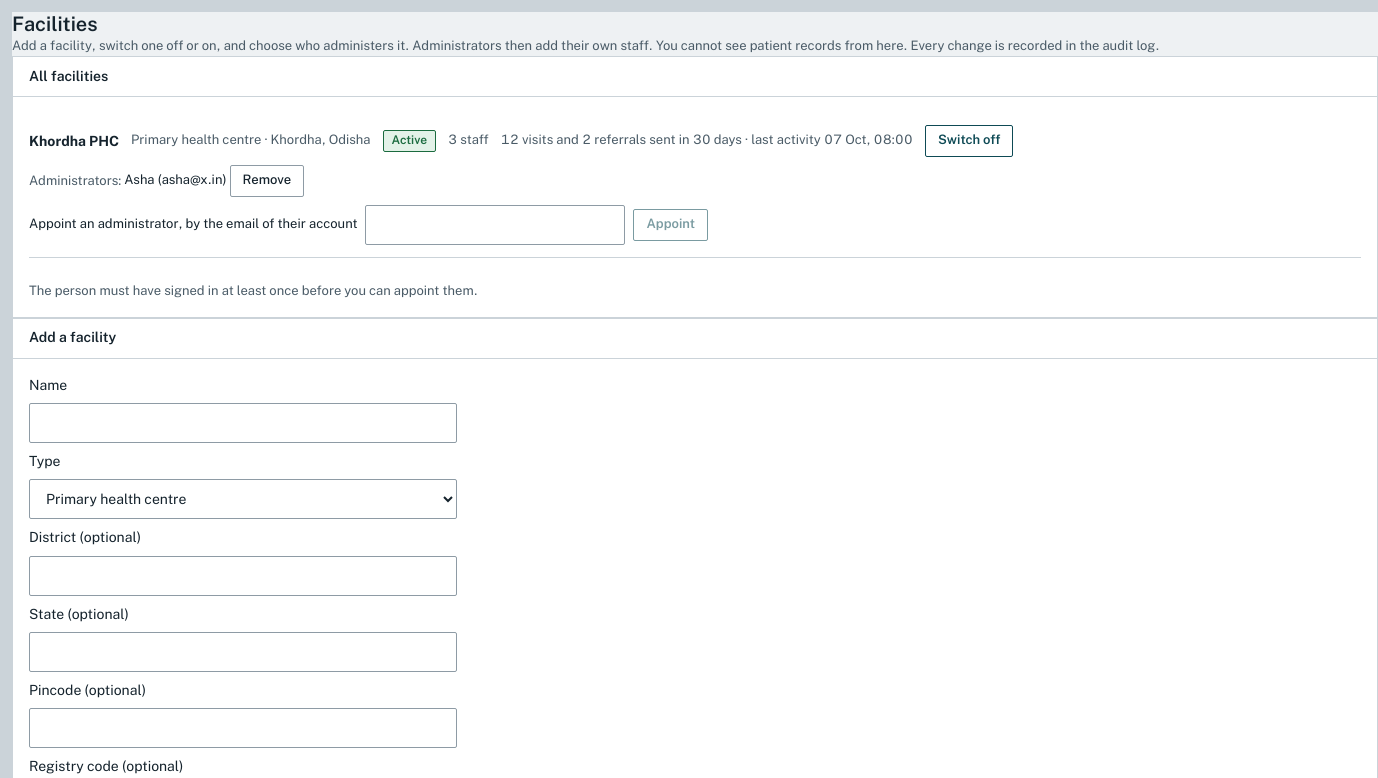
it: PlatformPage › adds a facility and reloads the list
Type "Cuttack CHC" into the field labelled "Name". click: (243, 423)
box: x1=29 y1=403 x2=457 y2=443
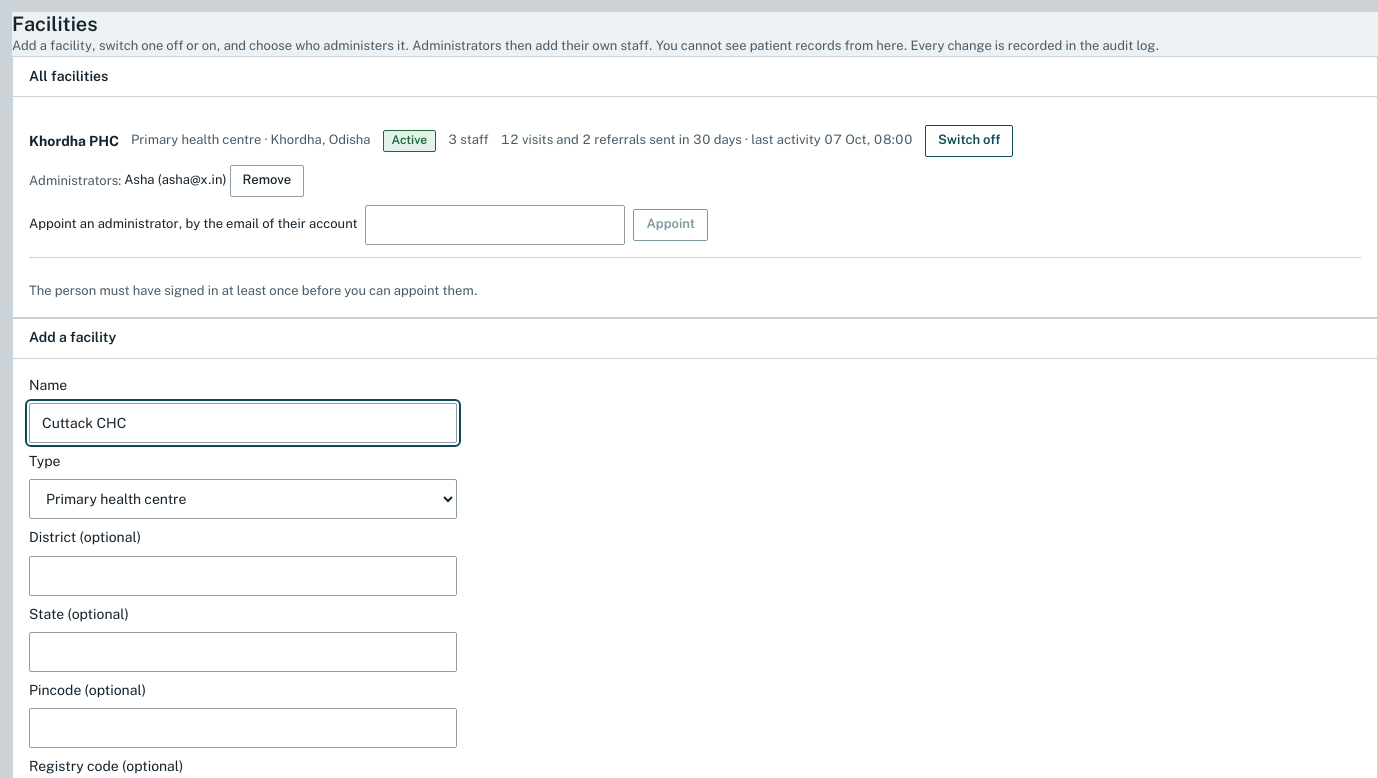
Select "Community health centre" in the dropdown labelled "Type". click: (243, 499)
box: x1=29 y1=479 x2=457 y2=519
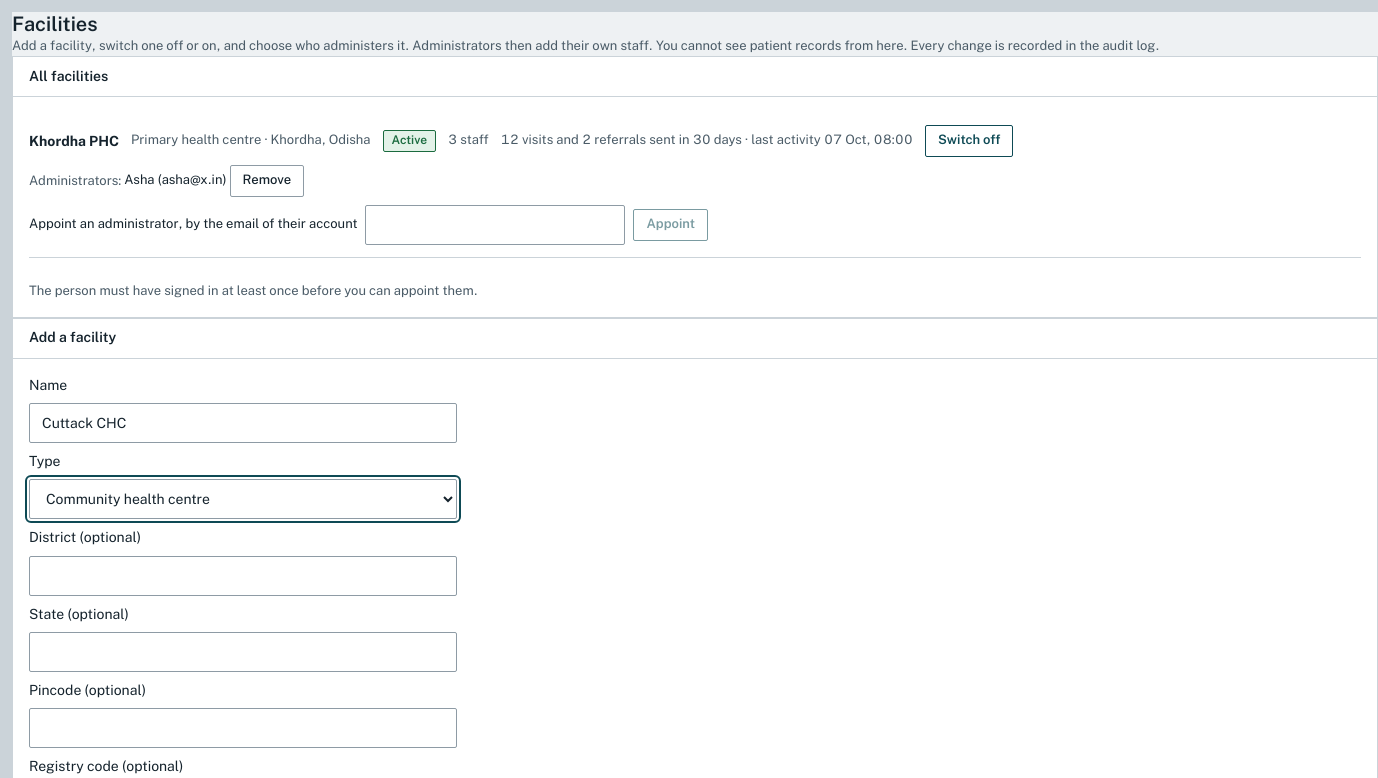
Type "753001" into the field labelled "Pincode (optional)". click: (243, 728)
box: x1=29 y1=708 x2=457 y2=748
(page scrolled)
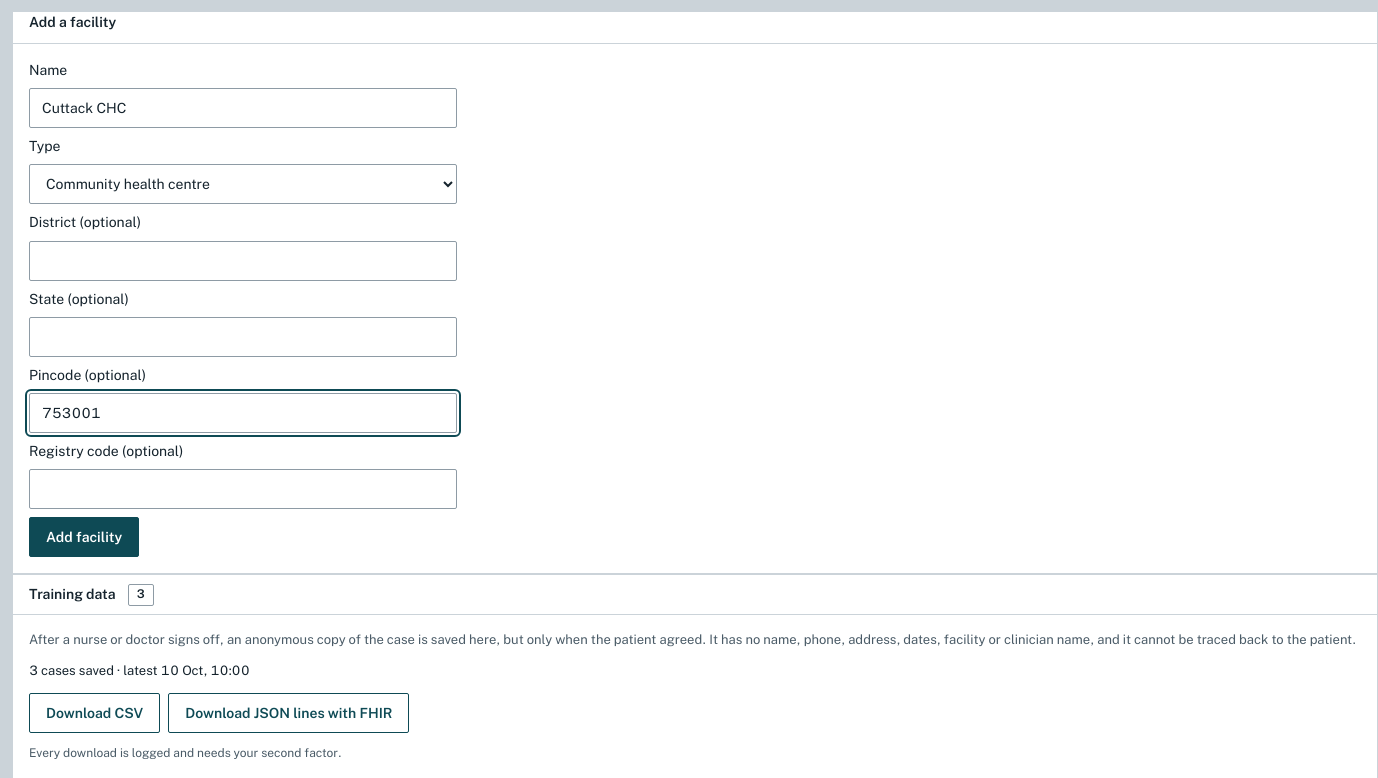
Click the button "Add facility". click: (84, 538)
box: x1=29 y1=518 x2=139 y2=558
(page scrolled)
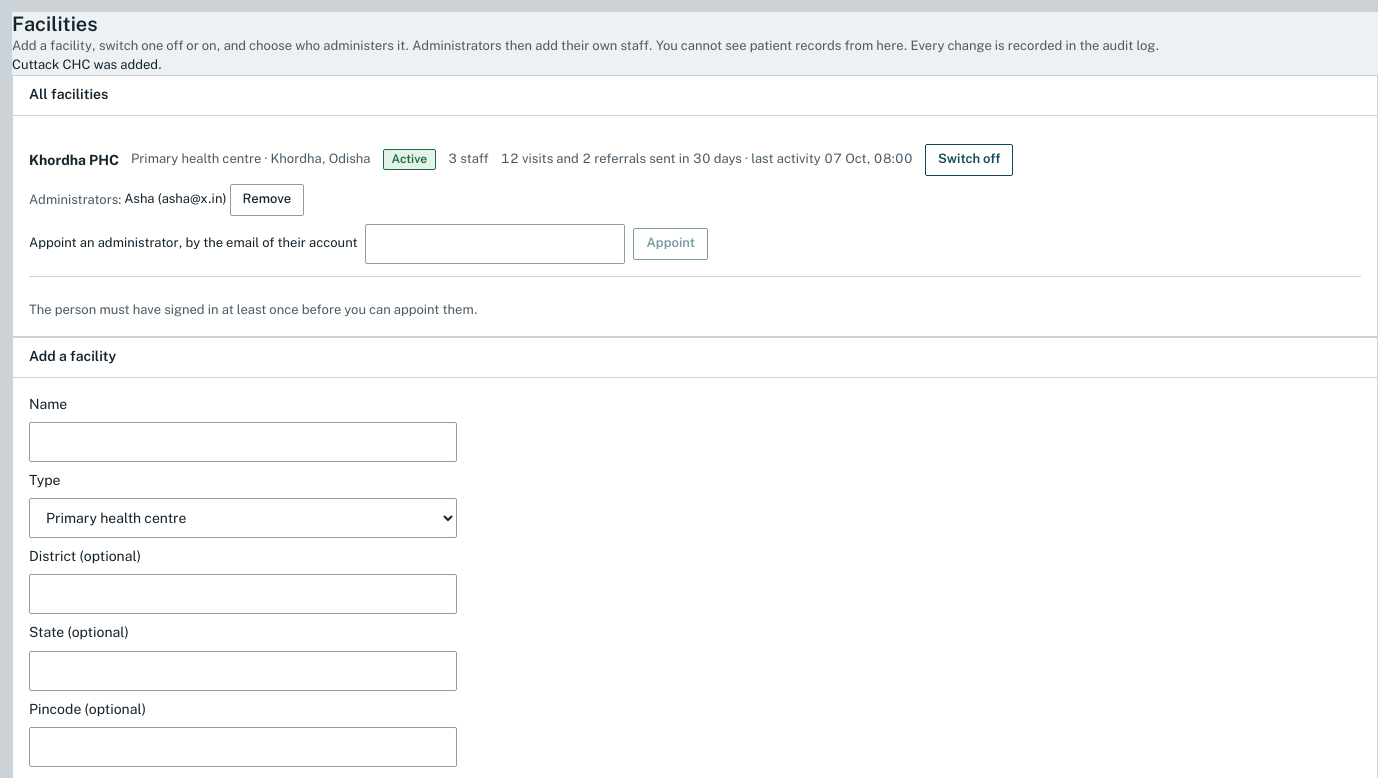
expect the text "Cuttack CHC was added." is shown: met, box x1=12 y1=57 x2=162 y2=72
